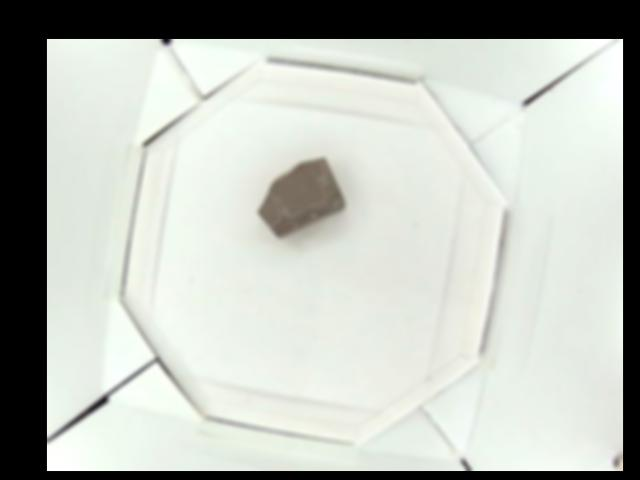China: (258, 155, 345, 238)
